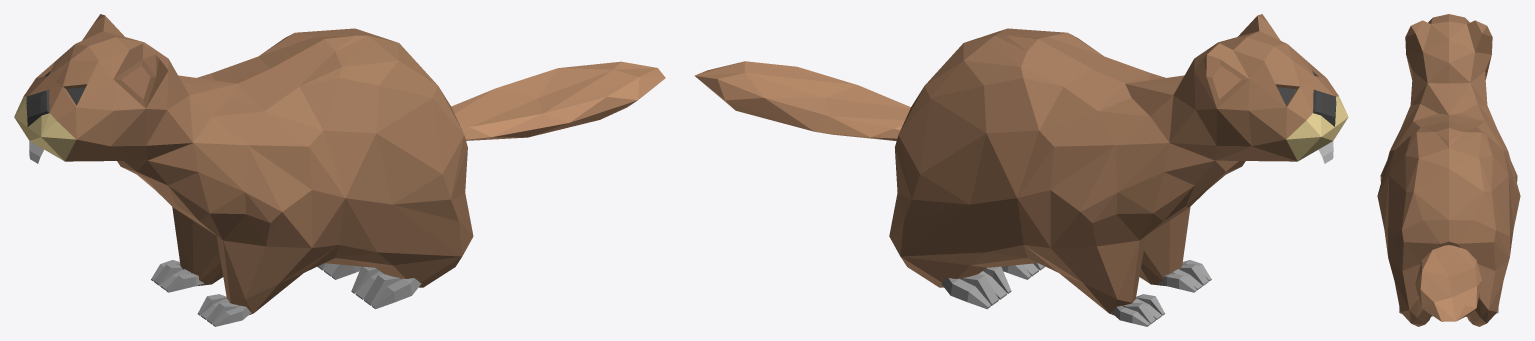
Rendered from Beaver-col.glb.
3 renders of one model, left to right at view 1: azimuth 30°, elevation 25°; view 2: azimuth 150°, elevation 25°; view 3: azimuth 270°, elevation 25°, orthographic. The views are drawn at different scales.
Parts seen in each view (by area): view 1: Bever-col; view 2: Bever-col; view 3: Bever-col.
Part boxes in pixels (x1=…): Bever-col: x1=14, y1=14, x2=665, y2=326; Bever-col: x1=694, y1=14, x2=1348, y2=326; Bever-col: x1=1377, y1=14, x2=1520, y2=326.
Bounding box in the file's own units: 7.1 × 3.31 × 2.01.
